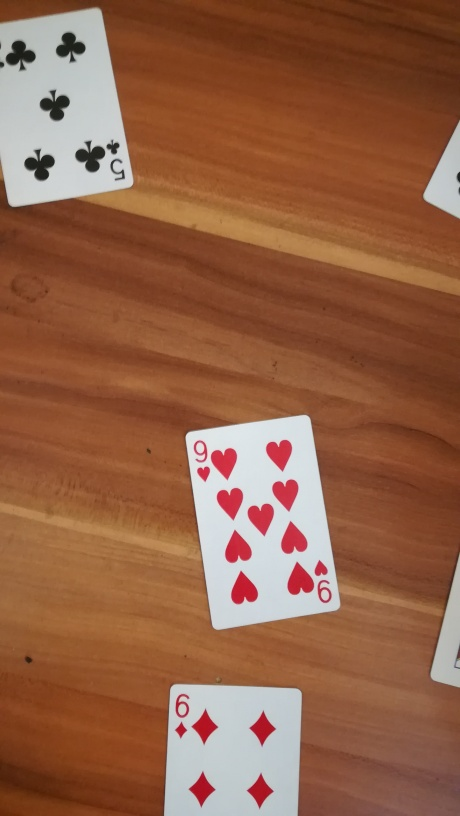fk 6: (150, 670, 310, 816)
hx 9: (167, 412, 349, 633)
mh 5: (1, 8, 142, 211)
